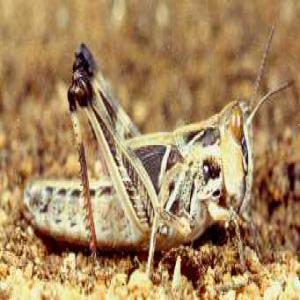locust: (26, 96, 279, 270)
